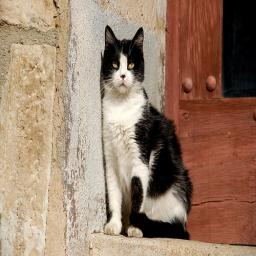catnose: (120, 71, 127, 81)
